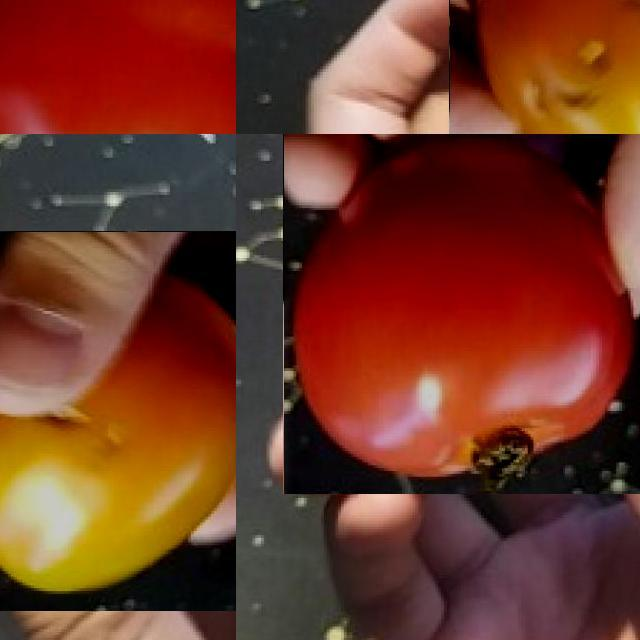Fresh Tomato: (283, 134, 640, 493), (0, 0, 236, 134)
Rotten Tomato: (0, 231, 236, 611), (448, 0, 640, 134)
